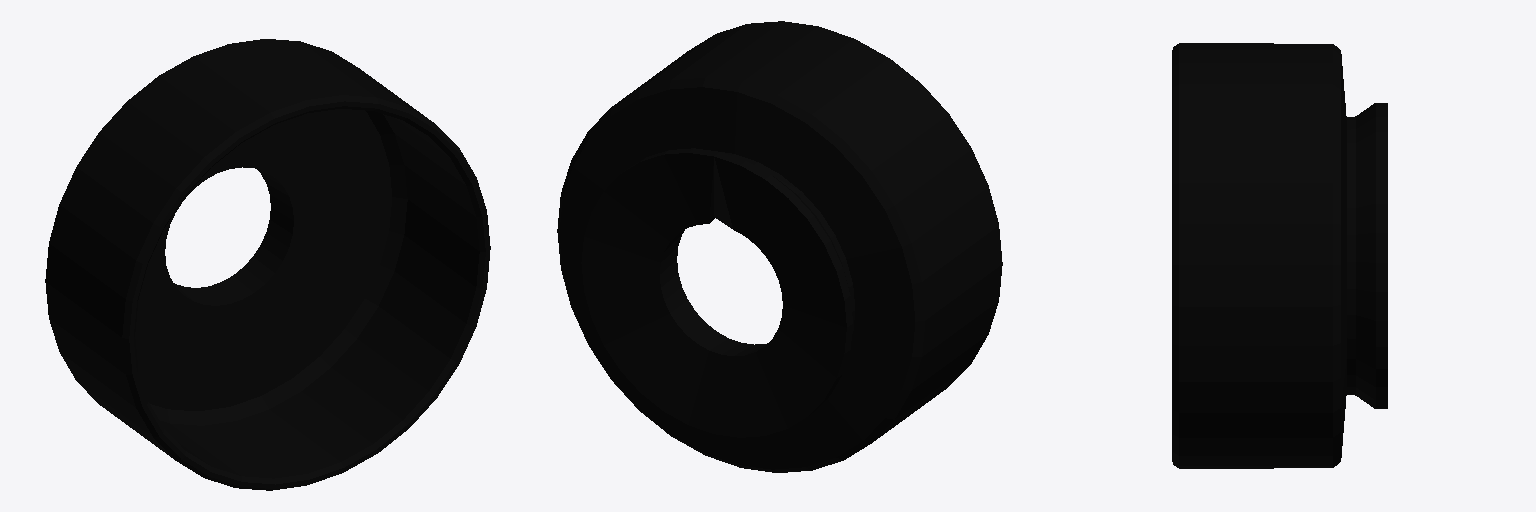
3 renders of one model, left to right at view 1: azimuth 30°, elevation 25°; view 2: azimuth 150°, elevation 25°; view 3: azimuth 270°, elevation 25°, orthographic.
Parts seen in each view (by area): view 1: base10; view 2: base10; view 3: base10.
Boxes of the visible parts, x1=… form: base10: x1=45, y1=39, x2=490, y2=490; base10: x1=557, y1=21, x2=1002, y2=472; base10: x1=1172, y1=43, x2=1387, y2=468.
Size of the model in its own units: 0.09 by 0.09 by 0.0455.